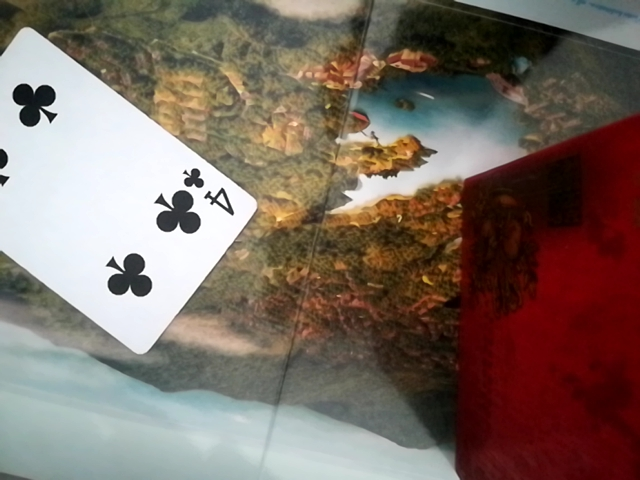mh 4: (0, 31, 251, 355)
